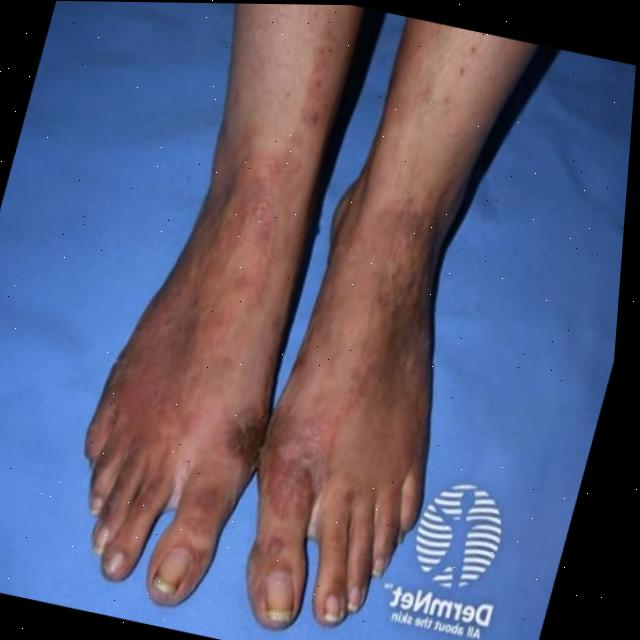Eczema: (263, 39, 570, 517), (63, 111, 320, 488)
